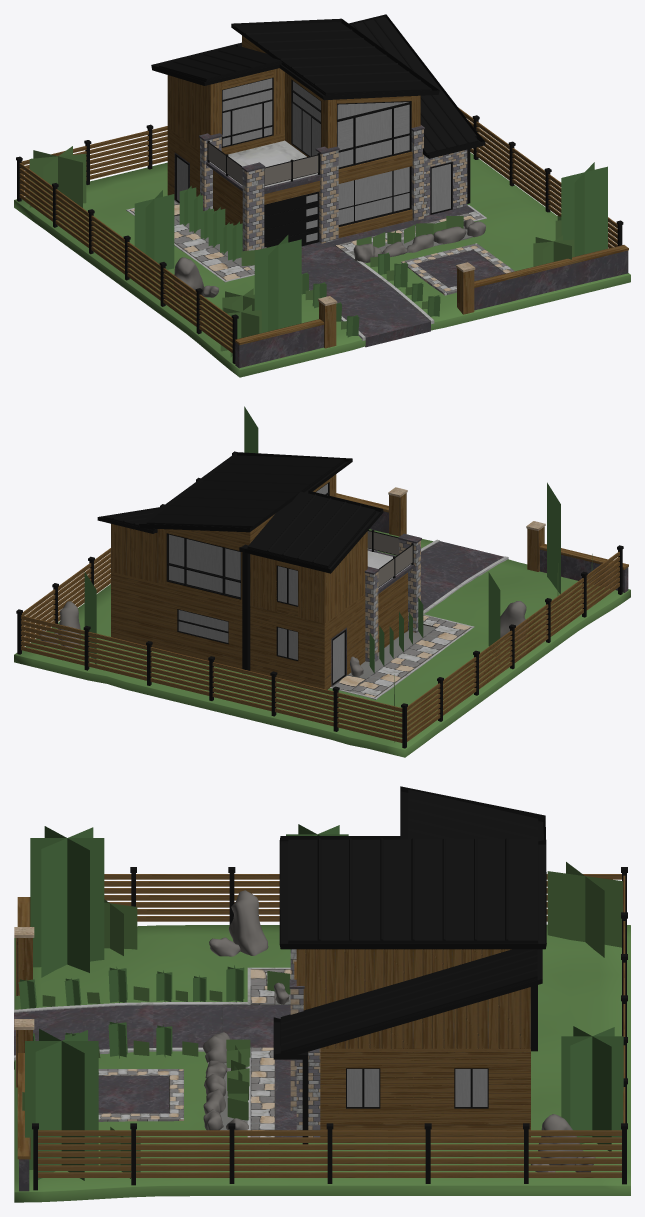
File: house.glb
3 renders of one model, top to bottom at view 1: azimuth 30°, elevation 25°; view 2: azimuth 150°, elevation 25°; view 3: azimuth 270°, elevation 25°, orthographic. The views are drawn at different scales.
Visible parts, largest first — view 1: Roof Main, Grass, Pine, Plant 1, rocks; view 2: Roof Main, Grass, Pine, rocks, Garden; view 3: Roof Main, Grass, Pine, Plant 1, rocks, Balcony Glass door Upper.004, Balcony Glass door Upper.005.
Boxes of the visible parts, x1,y1,x2,y2 form: Roof Main: (16,14,628,368); Grass: (14,152,630,377); Pine: (134,162,607,337); Plant 1: (29,146,574,357); rocks: (173,218,485,297); Roof Main: (16,451,628,748); Grass: (14,529,630,757); Pine: (84,406,560,673); rocks: (39,601,528,676); Garden: (348,625,435,678); Roof Main: (14,786,627,1191); Grass: (14,924,630,1202); Pine: (18,824,623,1180); Plant 1: (22,862,622,1178); rocks: (203,890,595,1172); Balcony Glass door Upper.004: (454,1068,488,1108); Balcony Glass door Upper.005: (346,1068,380,1108).
Bounding box in the file's own units: 21.06 × 8.6 × 21.07.
6 materials, 1 textured.
